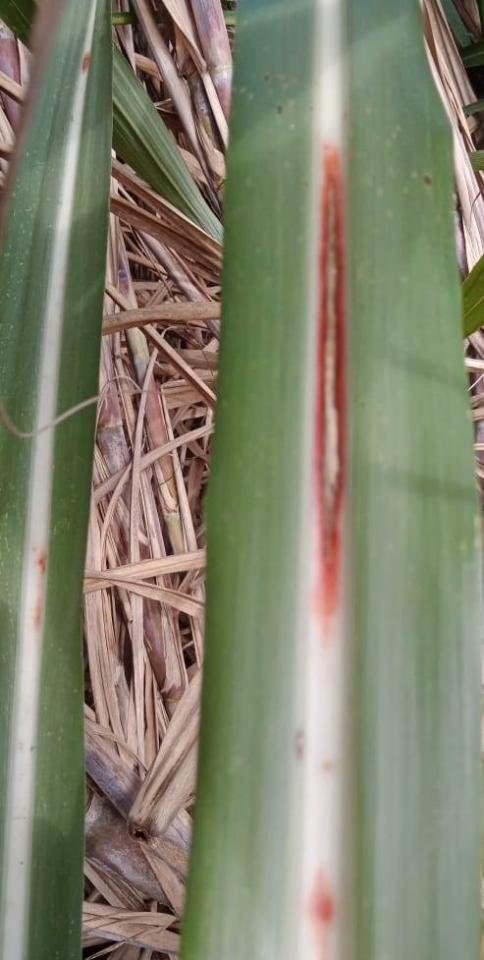RedRot: (315, 137, 348, 659), (304, 860, 343, 959)
